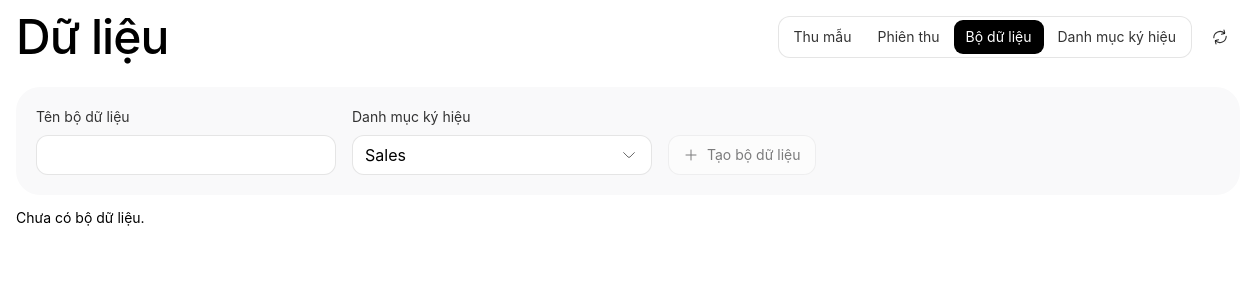
enterprise workspace data › does not mutate after the last confirmed read has expired
Expected: the text "Chưa có bộ dữ liệu." is shown, left=16, top=209, right=145, bottom=226
Type "New" into the field labelled "Tên bộ dữ liệu".
click(186, 155); type("New")  # box left=36, top=135, right=336, bottom=175
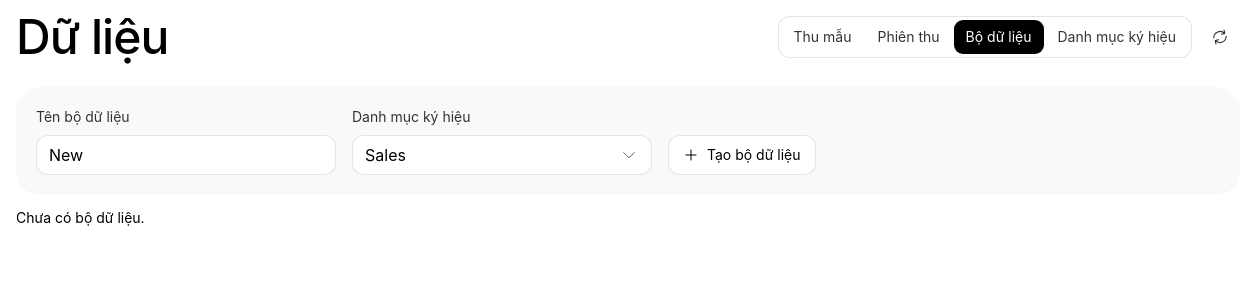
Click the button "Tạo bộ dữ liệu".
click(742, 155)  # box left=668, top=135, right=816, bottom=175
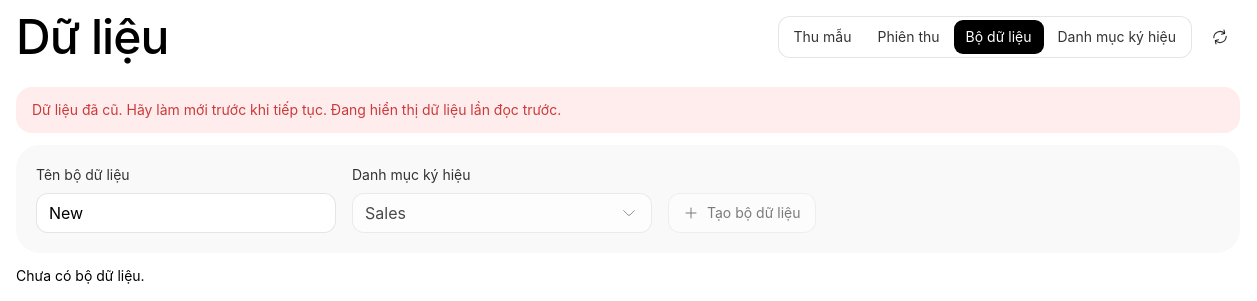
Expected: the message is shown, left=16, top=87, right=1240, bottom=133
